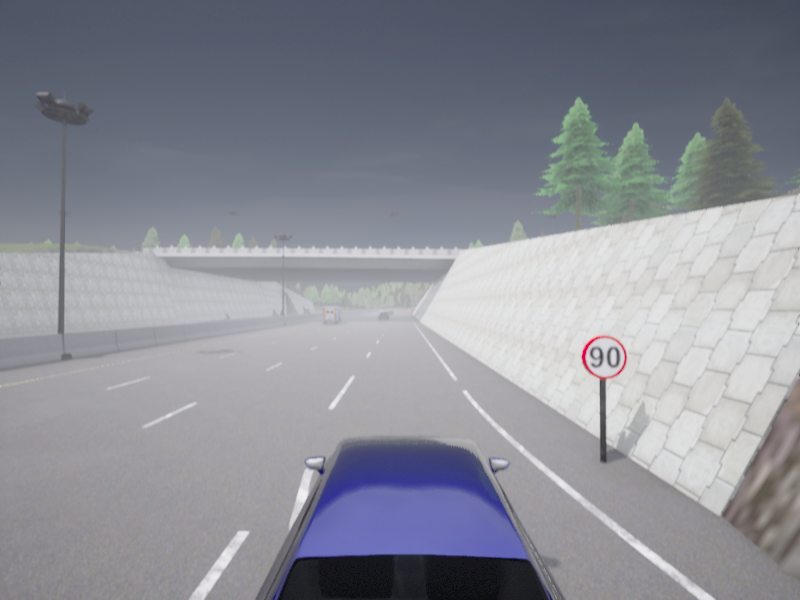vehicle: (254, 435, 565, 599), (322, 307, 343, 322), (379, 312, 389, 319), (387, 310, 393, 314), (380, 308, 385, 312)
